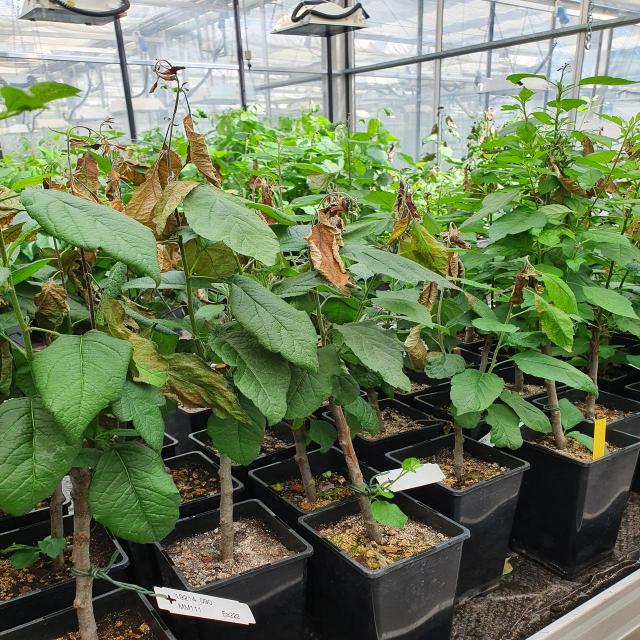-FireBlight-: (34, 247, 255, 428), (43, 115, 222, 270), (385, 178, 471, 375), (304, 185, 361, 298), (529, 137, 621, 205), (246, 166, 284, 229), (509, 255, 544, 304)
